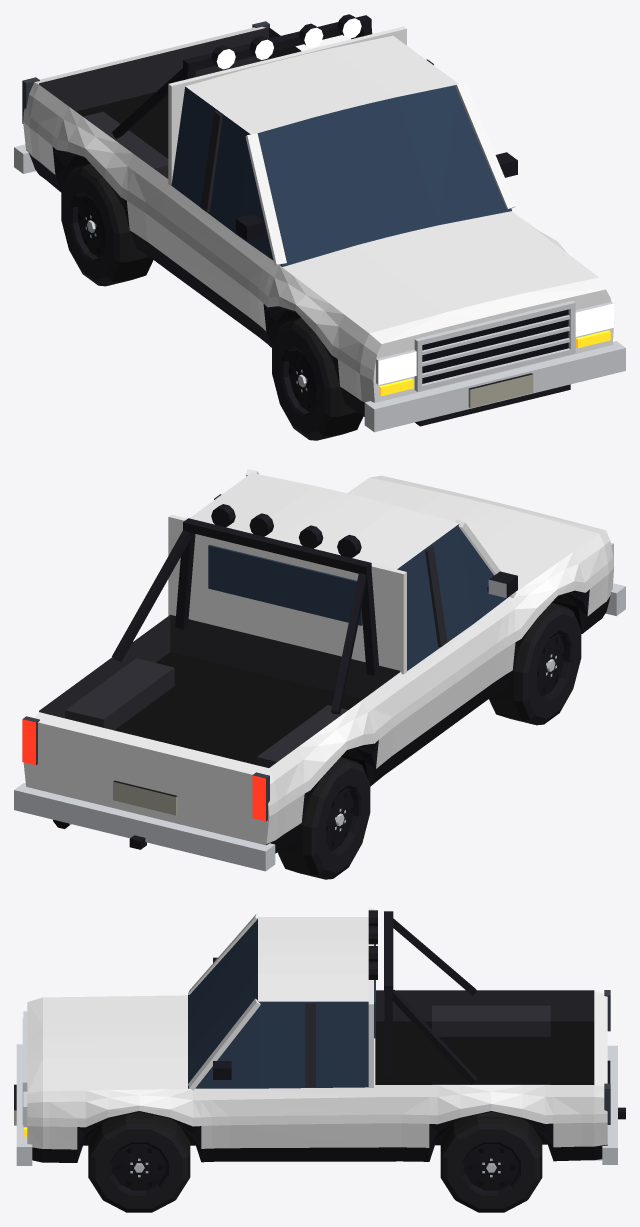
File: pickup.glb
3 renders of one model, top to bottom at view 1: azimuth 30°, elevation 25°; view 2: azimuth 150°, elevation 25°; view 3: azimuth 270°, elevation 25°, orthographic. The views are drawn at different scales.
Visible parts, largest first — view 1: paint, glass, chrome, stripe_a, trim, trim_soft, tire_side (×2), trim_grille, stripe_b, tire (×2), part_17 (×2), headlight (+3 smaller); view 2: paint, trim_soft, trim, trim_under, glass, chrome, tire_side (×2), stripe_a, tire (×2), stripe_b, part_17 (×2), plate (+1 smaller); view 3: paint, glass, trim_under, trim, trim_soft, tire_side (×2), stripe_a, stripe_b, part_17 (×2), tire (×2), chrome, chrome_housing.
Part boxes in pixels (x1,y1,x2,y2): paint: [23, 26, 614, 402]; glass: [171, 85, 511, 266]; chrome: [14, 144, 625, 432]; stripe_a: [105, 44, 534, 325]; trim: [26, 14, 570, 426]; trim_soft: [39, 27, 433, 212]; tire_side (×2): [61, 168, 363, 439]; trim_grille: [422, 309, 568, 383]; stripe_b: [23, 112, 373, 380]; tire (×2): [70, 163, 362, 440]; part_17 (×2): [70, 192, 316, 417]; headlight: [216, 18, 613, 384]; paint: [23, 469, 613, 845]; trim_soft: [39, 494, 447, 767]; trim: [112, 504, 610, 853]; trim_under: [53, 594, 582, 828]; glass: [208, 524, 508, 670]; chrome: [14, 543, 625, 871]; tire_side (×2): [277, 607, 581, 878]; stripe_a: [105, 486, 533, 758]; tire (×2): [278, 602, 572, 879]; stripe_b: [268, 557, 613, 816]; part_17 (×2): [326, 631, 572, 856]; plate: [113, 781, 177, 815]; paint: [27, 908, 607, 1149]; glass: [188, 918, 375, 1088]; trim_under: [83, 1021, 594, 1145]; trim: [14, 910, 625, 1162]; trim_soft: [305, 990, 594, 1116]; tire_side (×2): [90, 1124, 540, 1212]; stripe_a: [27, 940, 607, 1063]; stripe_b: [27, 1104, 607, 1127]; part_17 (×2): [109, 1142, 520, 1195]; tire (×2): [88, 1112, 542, 1199]; chrome: [16, 1011, 617, 1165]; chrome_housing: [604, 990, 610, 1124].
Bounding box in the file's own units: 1.98 × 1.89 × 4.64.
